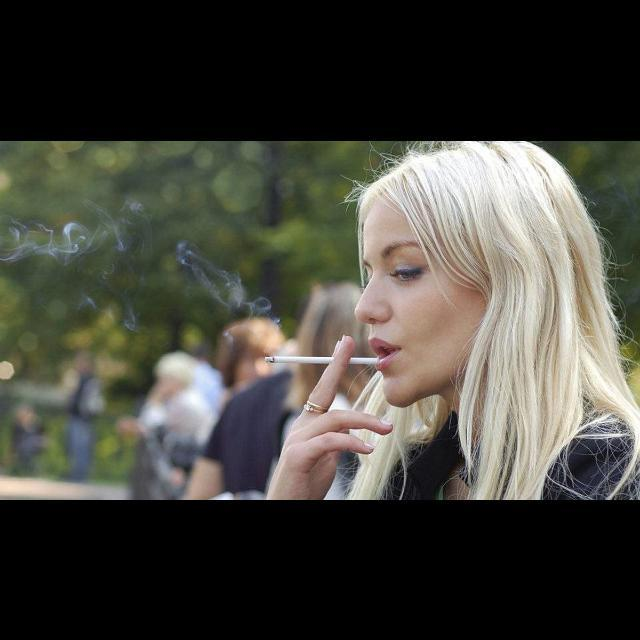rokok: (254, 350, 382, 374)
